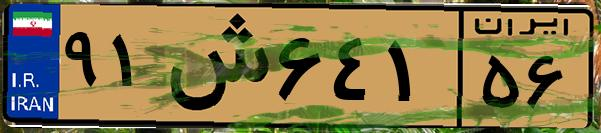1: (385, 28, 445, 110), (110, 28, 158, 98)
4: (330, 28, 385, 110)
5: (475, 38, 525, 113)
6: (270, 28, 330, 110), (525, 38, 570, 115)
9: (57, 26, 110, 100)
ش: (158, 12, 270, 120)
